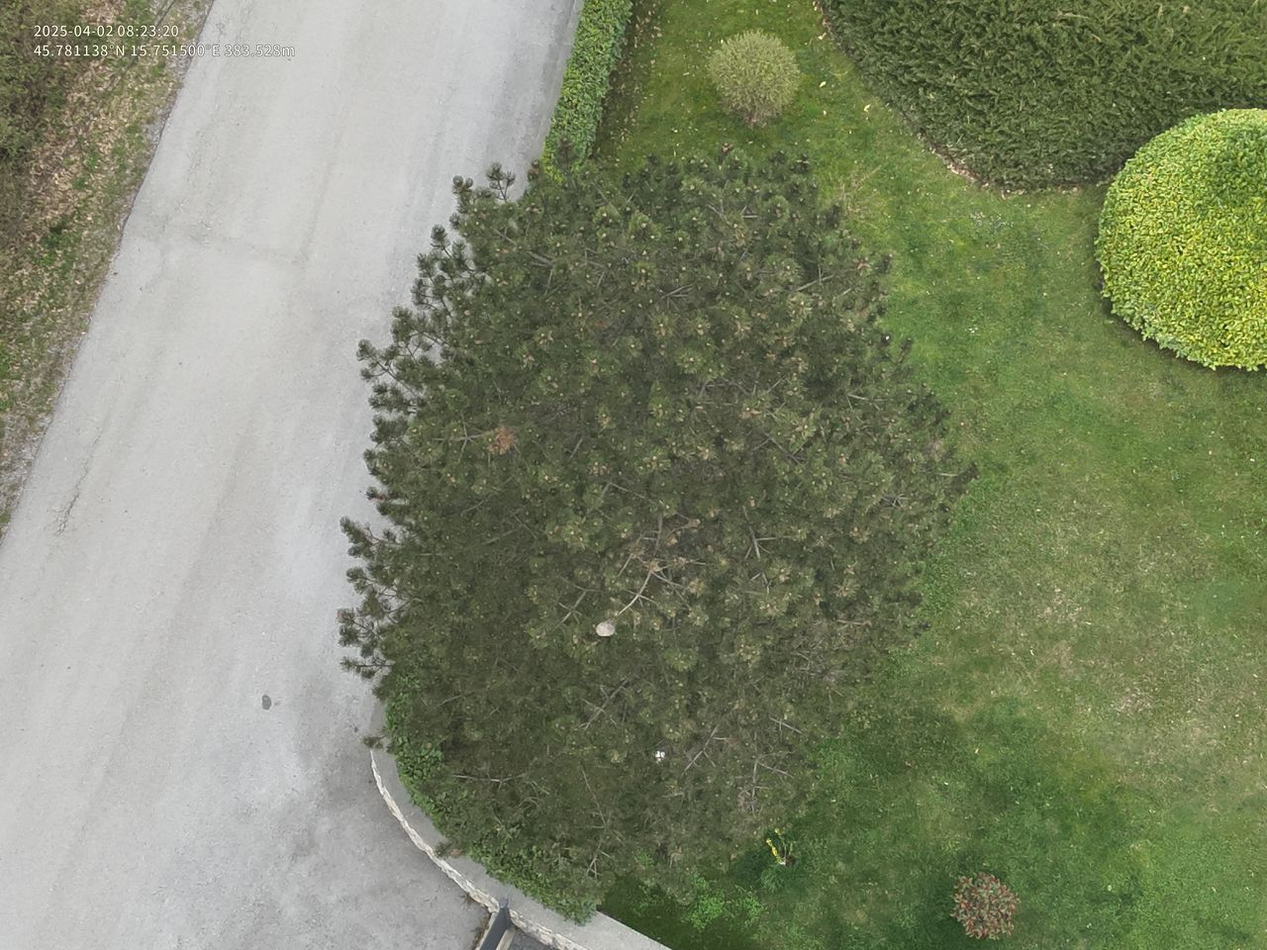thaumatopoea pityocampa jajno gnijezdo: (593, 616, 620, 641), (653, 745, 669, 765)
